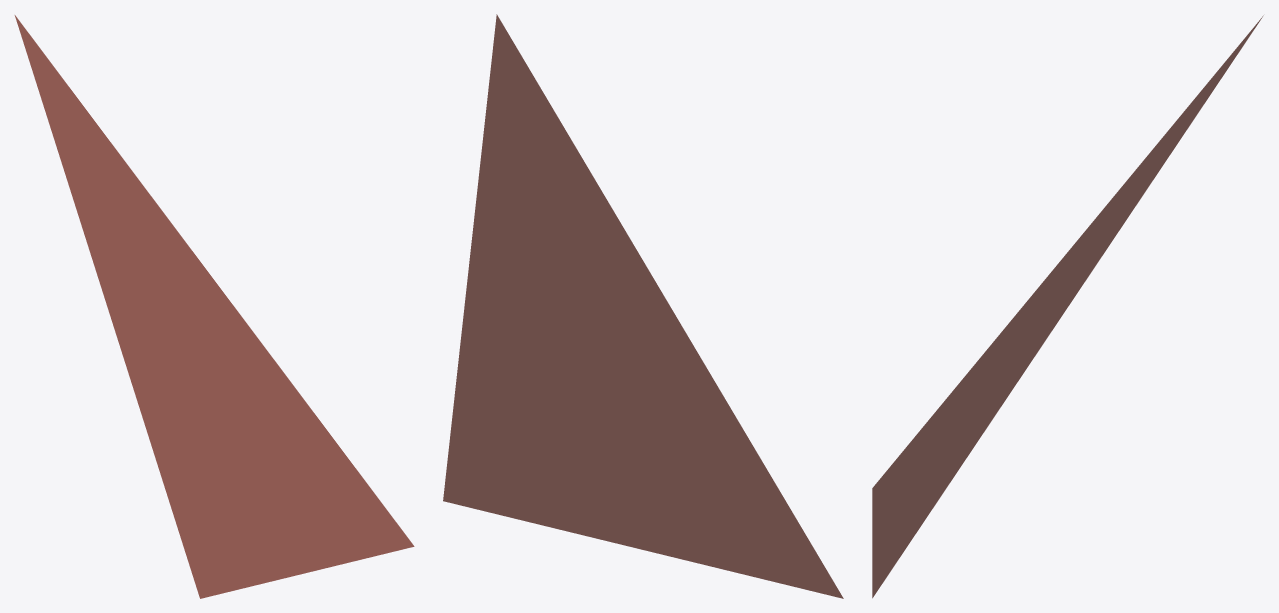
Rendered from sloped_normals.fbx.
3 views of the same model, side by side, from view 1: azimuth 30°, elevation 25°; view 2: azimuth 150°, elevation 25°; view 3: azimuth 270°, elevation 25° (orthographic). The views are drawn at different scales.
Parts seen in each view (by area): view 1: Quad; view 2: Quad; view 3: Quad.
Boxes of the visible parts, box(x1,y1,x2,y2) form: Quad: box(14, 15, 414, 598); Quad: box(443, 14, 843, 598); Quad: box(872, 15, 1263, 598).
Size of the model in its own units: 2 by 3 by 4.
